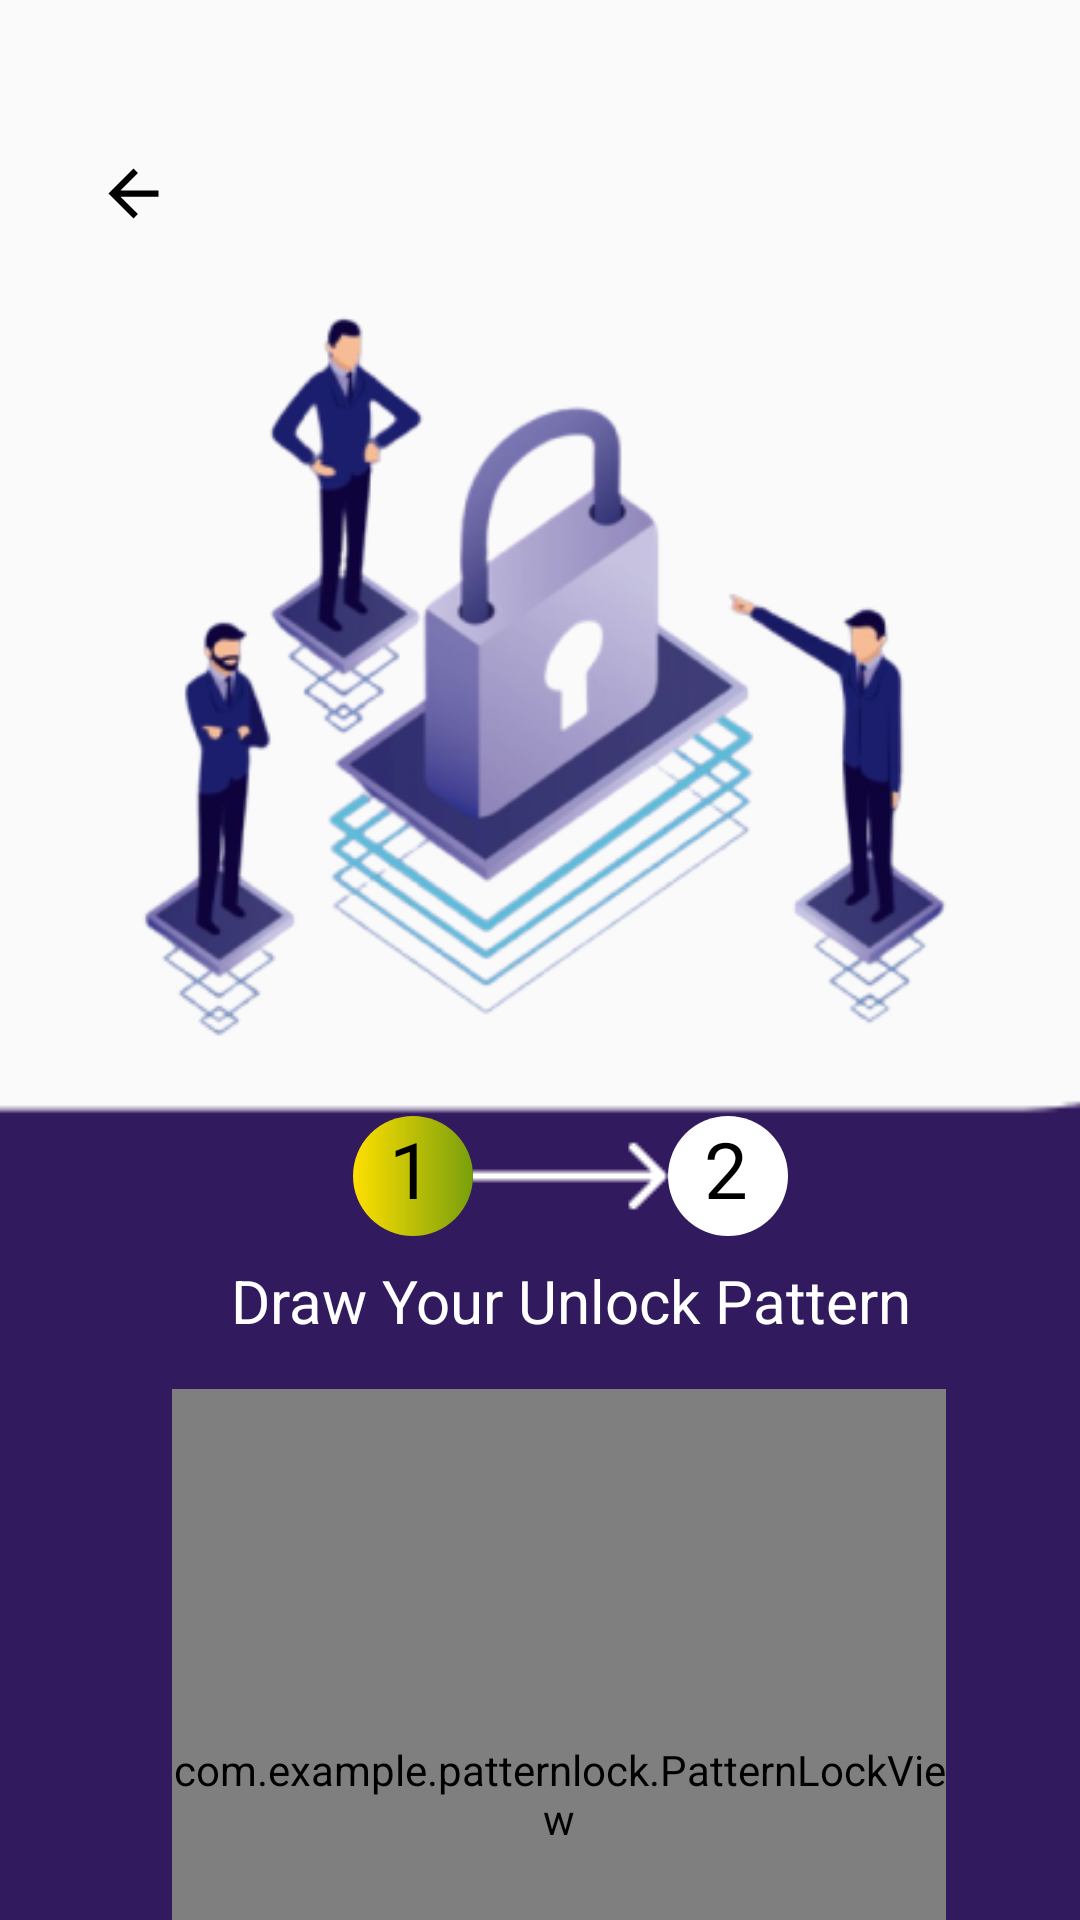

Named icons in this screenshot (1080w x 1920h) and their centers, (x=x, y=y):
Back Arrow: (x=133, y=193)
whitearrow: (x=570, y=1176)
